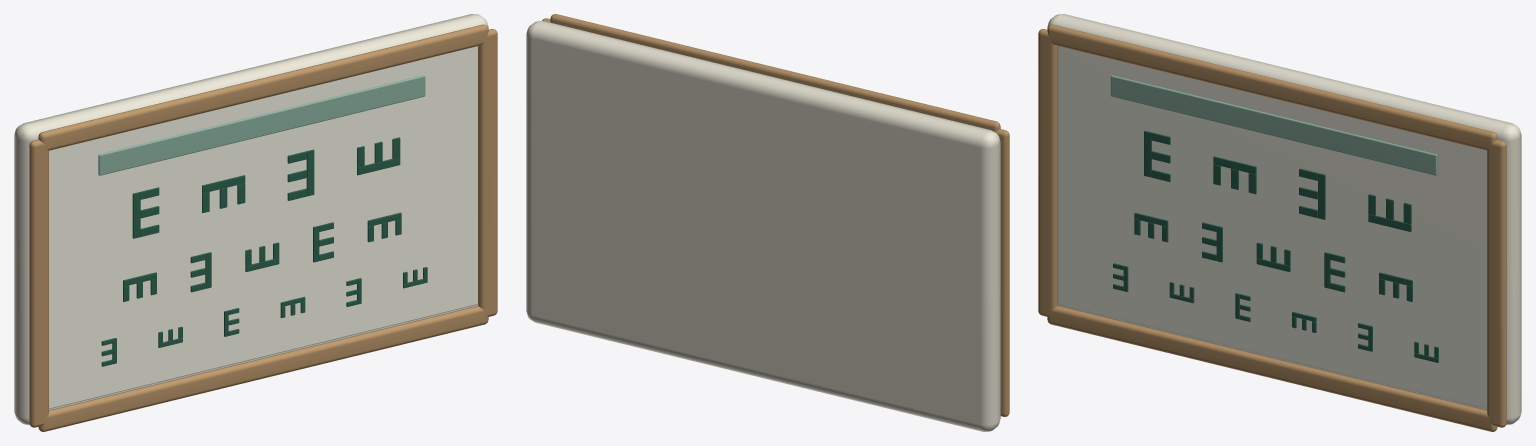
Rendered from eye-chart.glb.
The picture shows the model from 3 angles, left to right: view 1: azimuth 30°, elevation 25°; view 2: azimuth 150°, elevation 25°; view 3: azimuth 330°, elevation 25°; orthographic projection.
Parts seen in each view (by area): view 1: EyeChart | Neutral warm poster paper.001, EyeChart | Honey oak sill.001, EyeChart | Warm ivory powder coat.001, EyeChart | Deep forest poster print.001, EyeChart | Soft sage trim.001; view 2: EyeChart | Warm ivory powder coat.001, EyeChart | Honey oak sill.001; view 3: EyeChart | Neutral warm poster paper.001, EyeChart | Honey oak sill.001, EyeChart | Warm ivory powder coat.001, EyeChart | Deep forest poster print.001, EyeChart | Soft sage trim.001.
Part boxes in pixels (<box>): EyeChart | Neutral warm poster paper.001: <box>49,46,477,409</box>; EyeChart | Honey oak sill.001: <box>29,24,497,431</box>; EyeChart | Warm ivory powder coat.001: <box>14,14,488,424</box>; EyeChart | Deep forest poster print.001: <box>101,137,427,366</box>; EyeChart | Soft sage trim.001: <box>98,75,425,175</box>; EyeChart | Warm ivory powder coat.001: <box>526,21,1000,431</box>; EyeChart | Honey oak sill.001: <box>542,14,1009,416</box>; EyeChart | Neutral warm poster paper.001: <box>1058,46,1486,409</box>; EyeChart | Honey oak sill.001: <box>1038,24,1506,431</box>; EyeChart | Warm ivory powder coat.001: <box>1047,14,1521,424</box>; EyeChart | Deep forest poster print.001: <box>1113,130,1438,362</box>; EyeChart | Soft sage trim.001: <box>1110,75,1437,175</box>.
Size of the model in its own units: 1.15 by 0.701 by 0.091.
